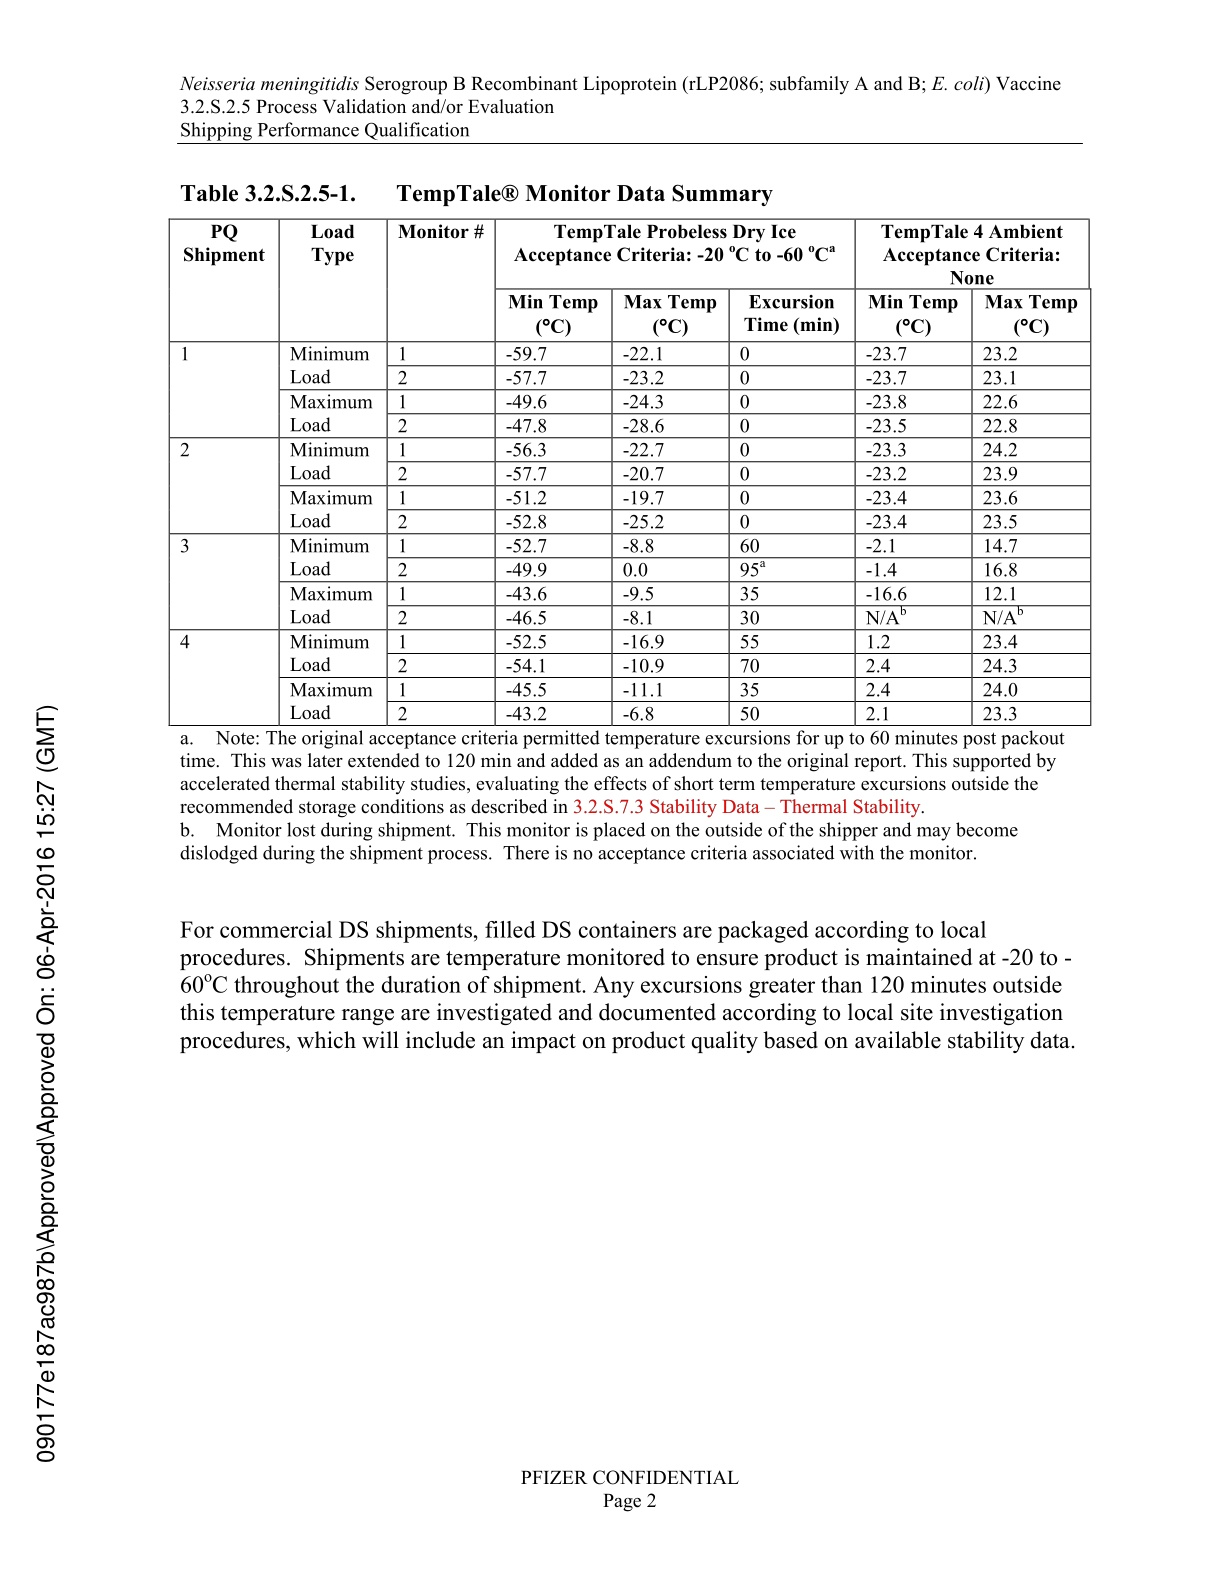merged_cells: (168, 219, 1093, 726)
